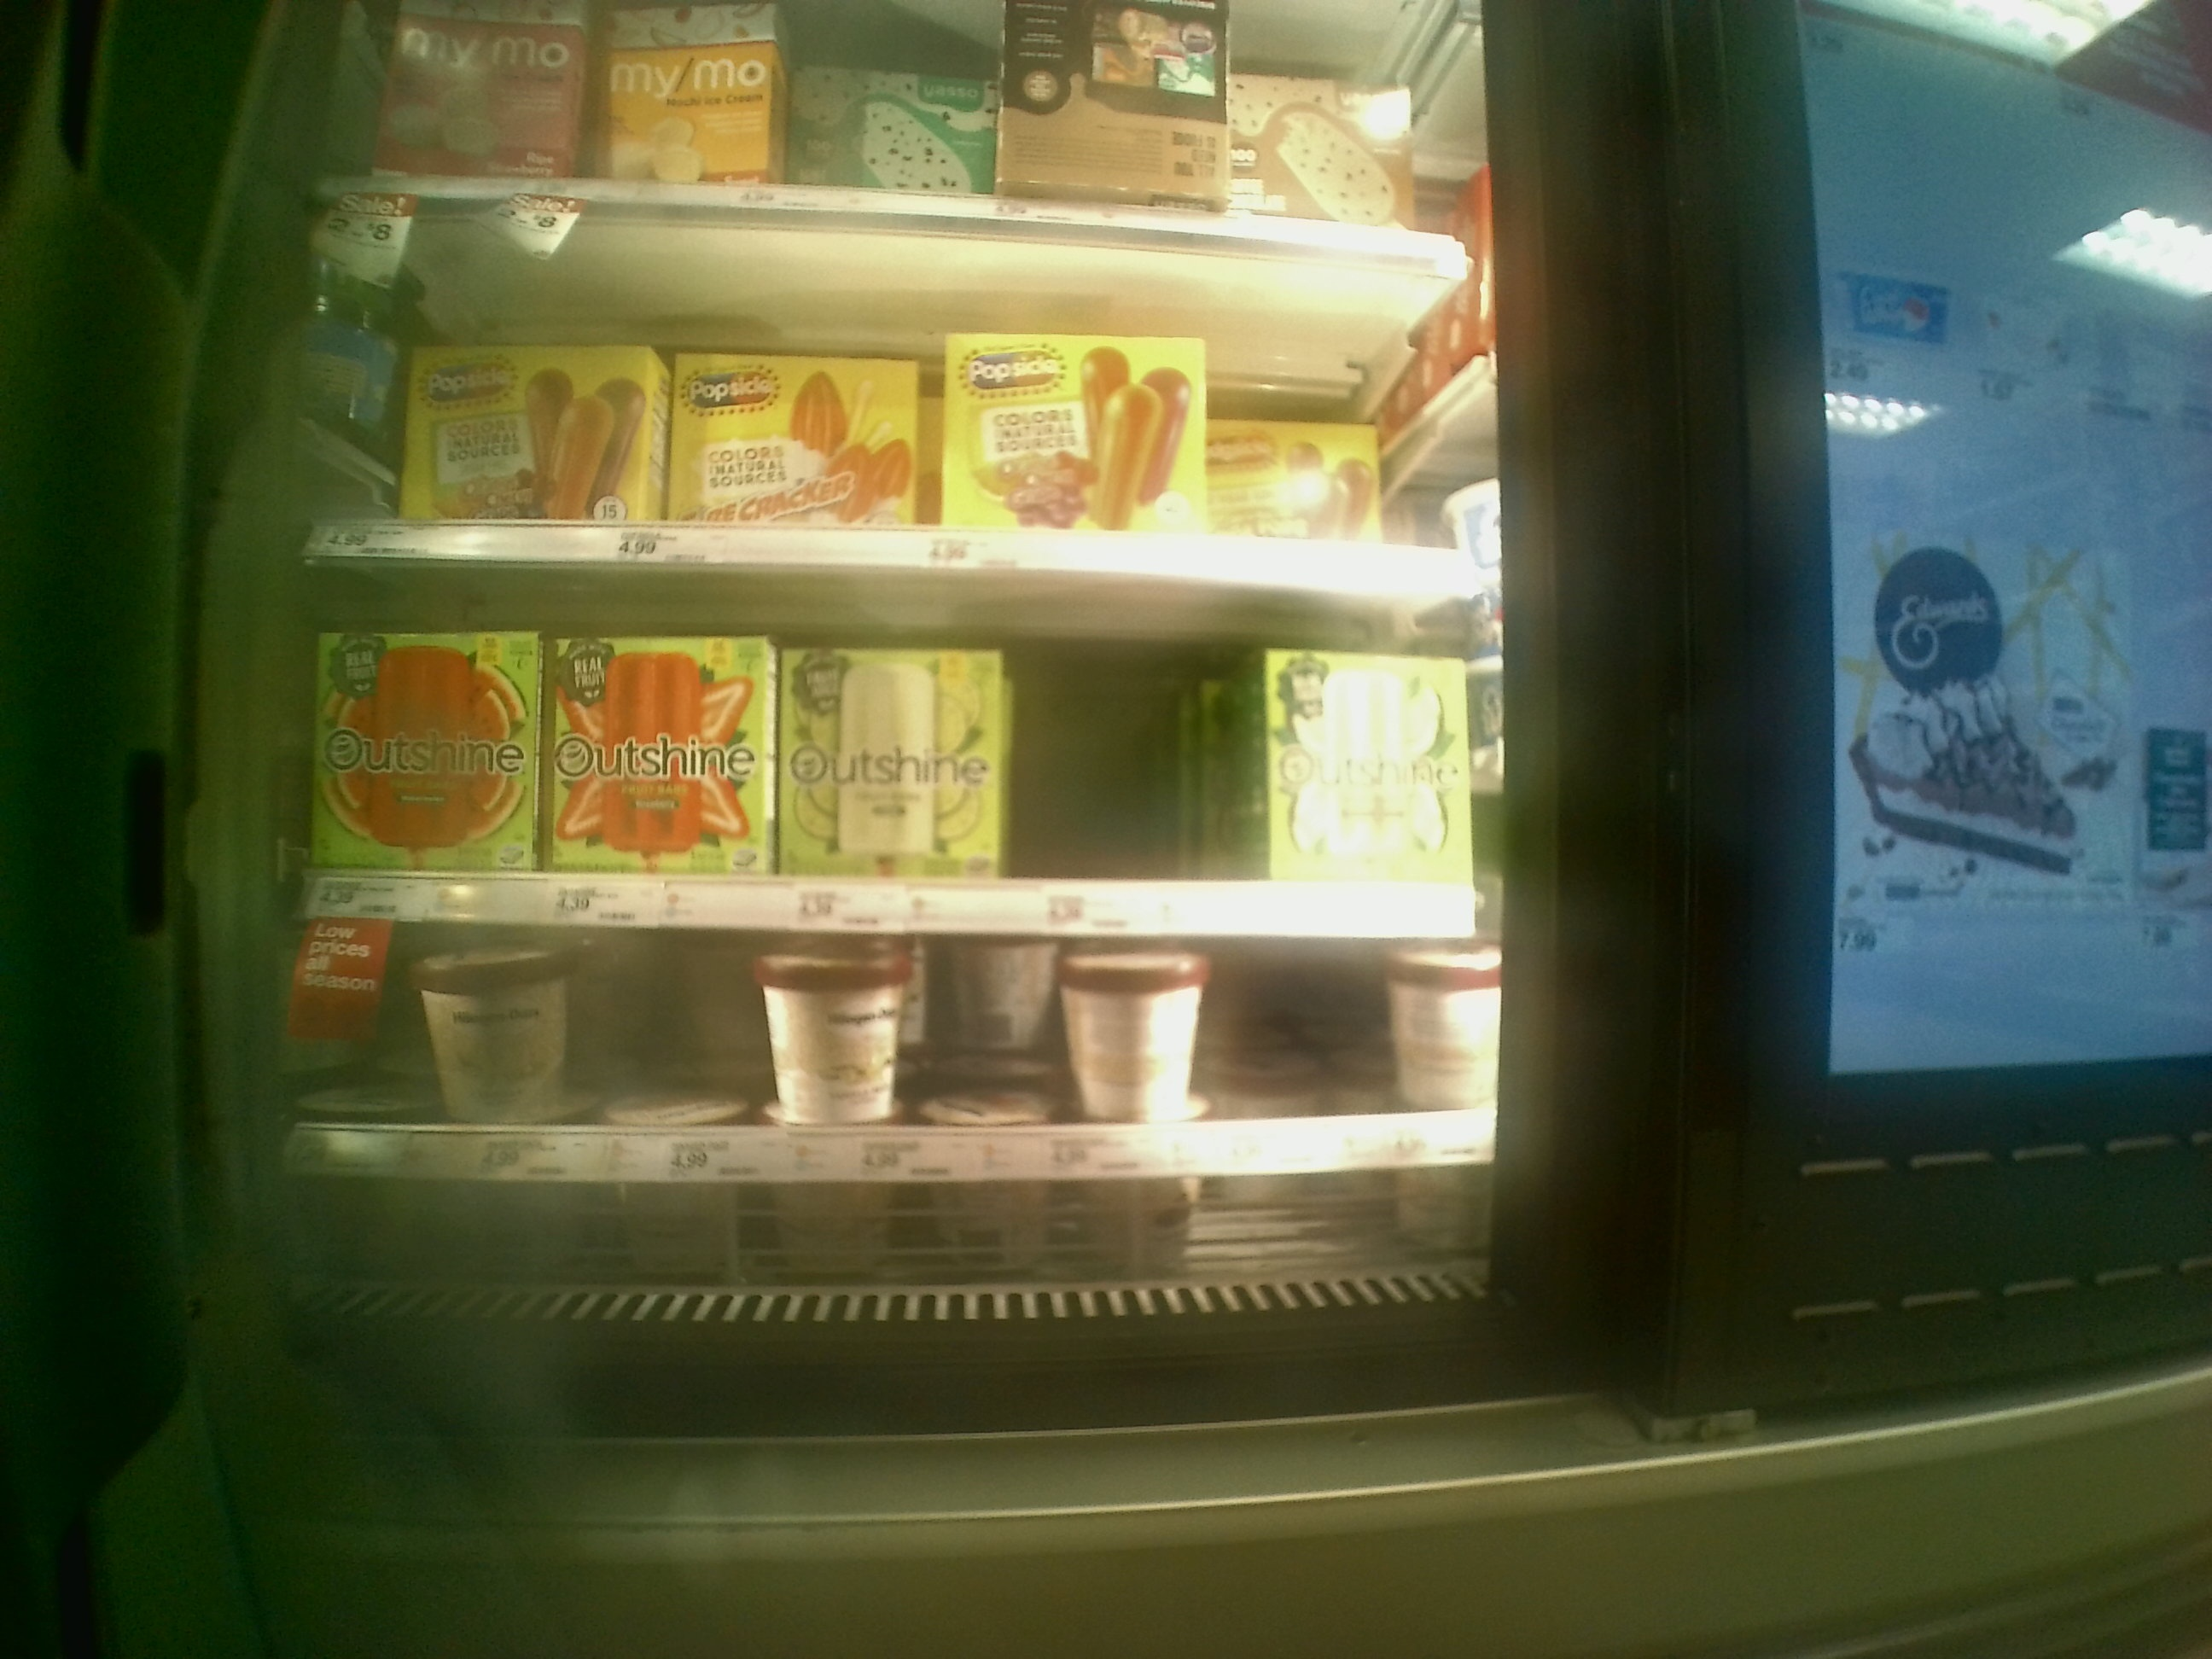shelf: (298, 214, 1533, 598), (310, 598, 1514, 945), (273, 938, 1515, 1183)
